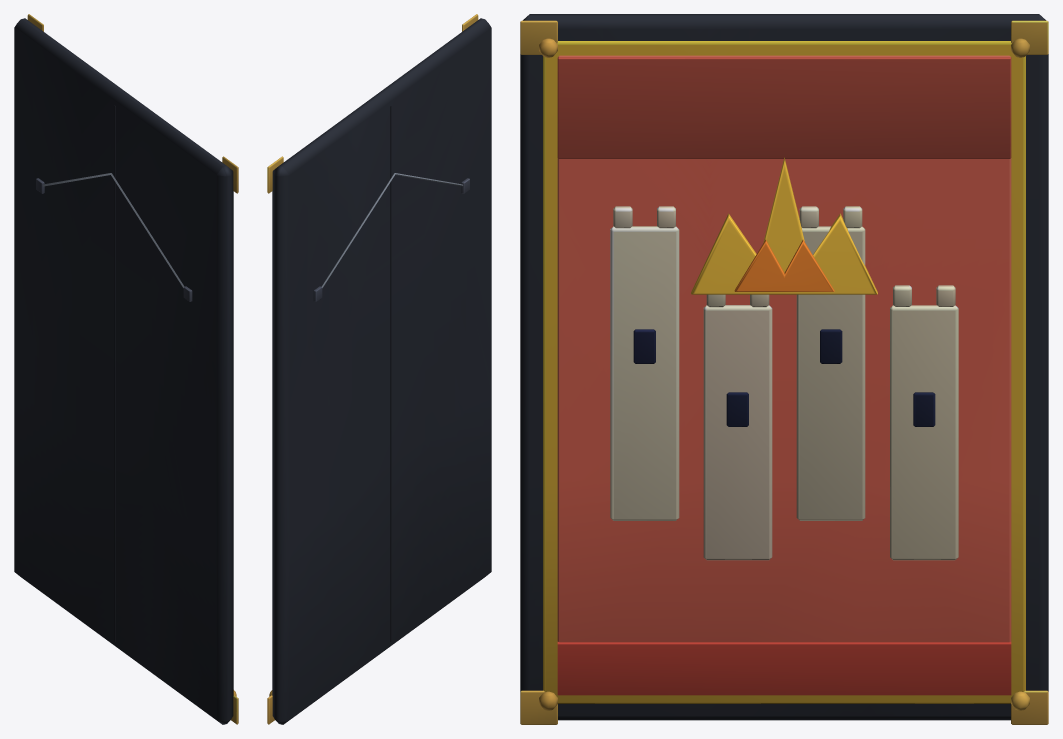
File: SM_Deco_Poster_CastleOnFire.fbx
3 views of the same model, side by side, from view 1: azimuth 30°, elevation 25°; view 2: azimuth 150°, elevation 25°; view 3: azimuth 270°, elevation 25° (orthographic). The views are drawn at different scales.
Parts seen in each view (by area): view 1: SM_Deco_Poster_CastleOnFire; view 2: SM_Deco_Poster_CastleOnFire; view 3: SM_Deco_Poster_CastleOnFire.
Part boxes in pixels (box(x1,y1,x2,y2)): SM_Deco_Poster_CastleOnFire: box(14, 14, 238, 724); SM_Deco_Poster_CastleOnFire: box(267, 14, 491, 724); SM_Deco_Poster_CastleOnFire: box(520, 14, 1048, 724).
Bounding box in the file's own units: 18.06 × 250 × 170.
